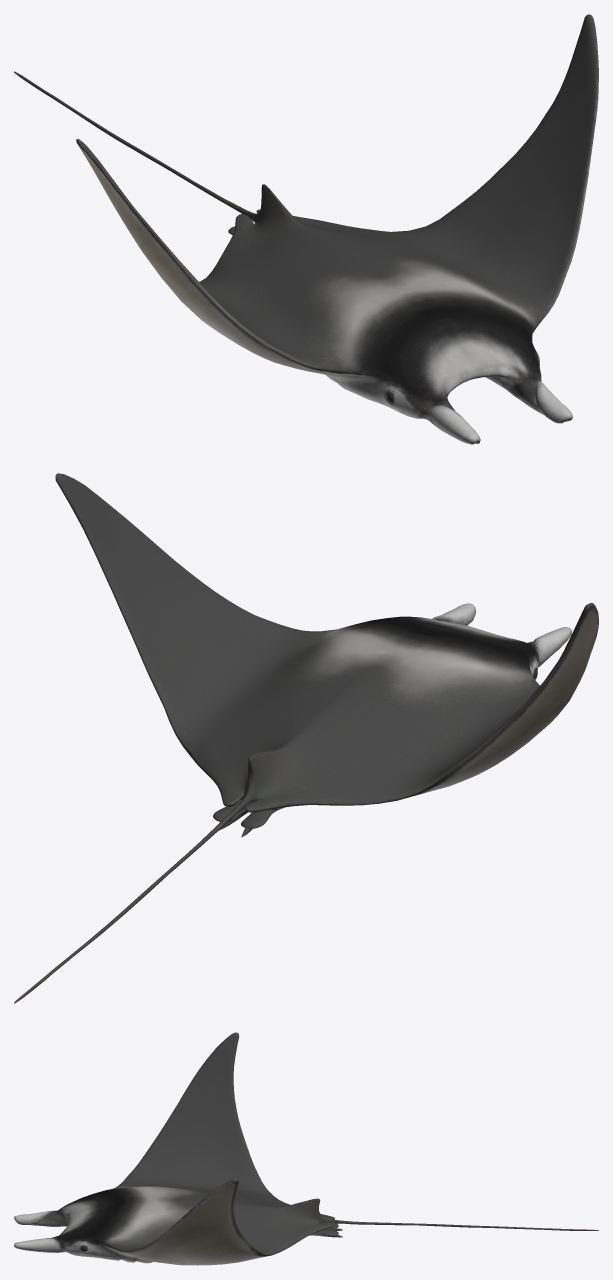
Rendered from Mobula Ray.fbx.
3 renders of one model, top to bottom at view 1: azimuth 30°, elevation 25°; view 2: azimuth 150°, elevation 25°; view 3: azimuth 270°, elevation 25°, orthographic. The views are drawn at different scales.
Parts seen in each view (by area): view 1: node_id431; view 2: node_id431; view 3: node_id431.
Boxes of the visible parts, box(x1,y1,x2,y2) form: node_id431: box(14, 14, 598, 444); node_id431: box(14, 473, 598, 1003); node_id431: box(14, 1032, 598, 1265).
Size of the model in its own units: 0.512 by 0.2267 by 0.8577.
Materials: 1 (1 with a texture image).
